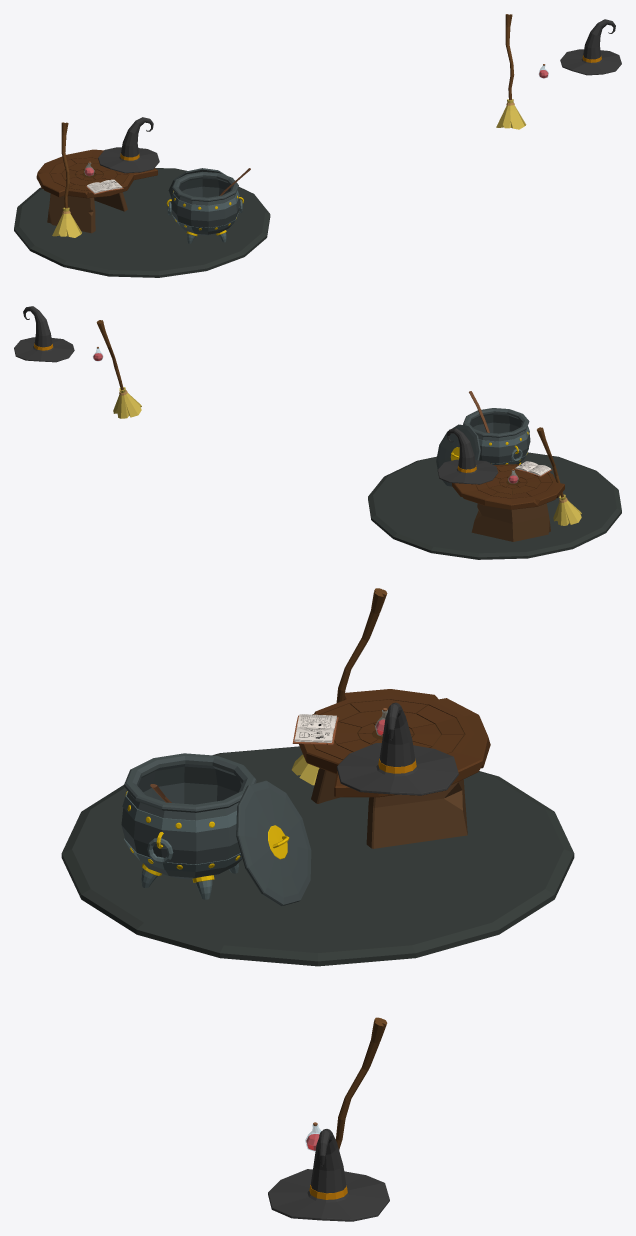
Rendered from low_poly_witch_pack___basic.glb.
3 views of the same model, one above another, from view 1: azimuth 30°, elevation 25°; view 2: azimuth 150°, elevation 25°; view 3: azimuth 270°, elevation 25° (orthographic). The views are drawn at different scales.
Parts seen in each view (by area): view 1: Cylinder_8, AlchemyTable_5, Cauldron_0, WitchHat_3, WitchHat.001_13, Broom.001_14, Broom_4; view 2: Cylinder_8, AlchemyTable_5, Cauldron_0, WitchHat_3, WitchHat.001_13, CauldronLid_1, Broom.001_14, Broom_4; view 3: Cylinder_8, AlchemyTable_5, Cauldron_0, CauldronLid_1, WitchHat_3, WitchHat.001_13, Broom_4, Book_7, Broom.001_14.
Boxes of the visible parts, box(x1,y1,x2,y2) form: Cylinder_8: box(14, 168, 270, 277); AlchemyTable_5: box(36, 149, 157, 233); Cauldron_0: box(166, 171, 243, 243); WitchHat_3: box(98, 117, 159, 173); WitchHat.001_13: box(560, 19, 621, 75); Broom.001_14: box(496, 14, 526, 129); Broom_4: box(52, 122, 81, 237); Cylinder_8: box(368, 452, 621, 559); AlchemyTable_5: box(452, 464, 564, 541); Cauldron_0: box(463, 408, 530, 464); WitchHat_3: box(437, 428, 498, 484); WitchHat.001_13: box(14, 306, 74, 362); CauldronLid_1: box(436, 424, 480, 486); Broom.001_14: box(96, 320, 141, 418); Broom_4: box(537, 427, 581, 525); Cylinder_8: box(61, 746, 574, 966); AlchemyTable_5: box(299, 689, 490, 848); Cauldron_0: box(121, 753, 256, 899); CauldronLid_1: box(236, 780, 311, 906); WitchHat_3: box(336, 702, 458, 795); WitchHat.001_13: box(268, 1129, 389, 1221); Broom_4: box(291, 588, 387, 785); Book_7: box(292, 714, 338, 745); Broom.001_14: box(335, 1017, 387, 1149).
Bounding box in the file's own units: 10.69 × 1.83 × 4.06.
Materials: 5 (3 with a texture image).
